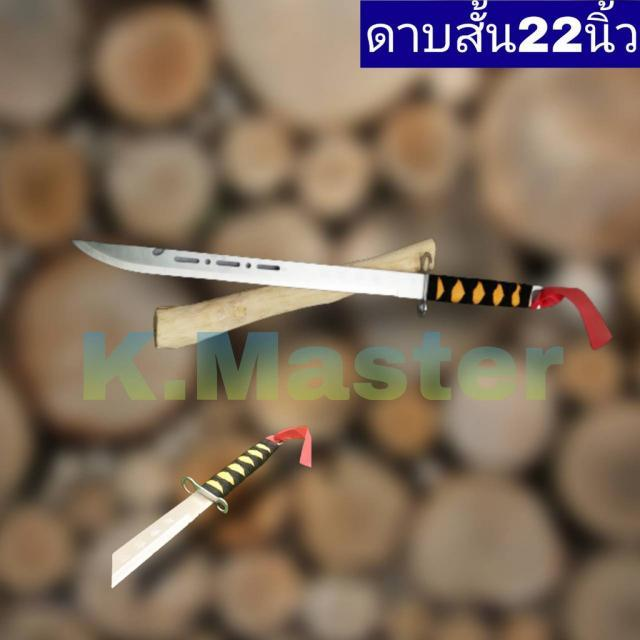long sword: (74, 232, 555, 314)
